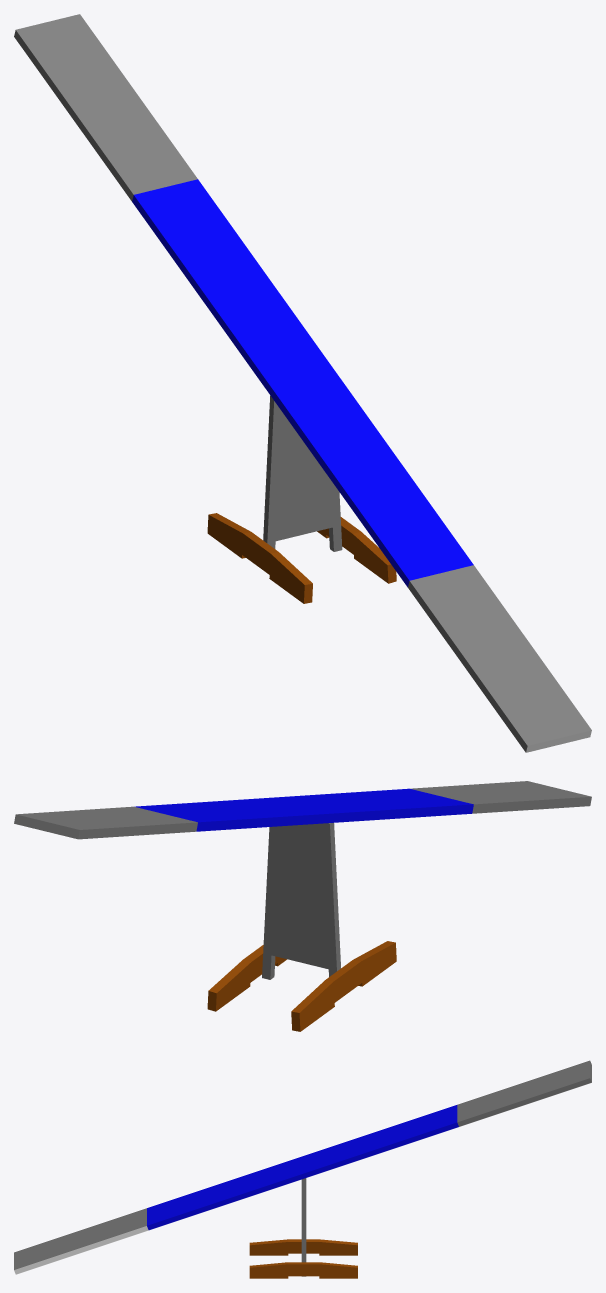
The model's file is Contact-3.gltf.
The picture shows the model from 3 angles, top to bottom: view 1: azimuth 30°, elevation 25°; view 2: azimuth 150°, elevation 25°; view 3: azimuth 270°, elevation 25°; orthographic projection. The views are drawn at different scales.
Parts seen in each view (by area): view 1: plank, upright (×2), foot (×2); view 2: plank, upright (×2), foot (×2); view 3: plank, foot (×2), upright.
Part boxes in pixels (x1,y1,x2,y2): plank: [14, 14, 591, 752]; upright (×2): [263, 395, 342, 551]; foot (×2): [207, 513, 396, 603]; plank: [14, 781, 591, 839]; upright (×2): [262, 823, 340, 979]; foot (×2): [207, 941, 396, 1031]; plank: [14, 1060, 591, 1274]; foot (×2): [249, 1239, 357, 1278]; upright: [301, 1178, 306, 1276].
Size of the model in its own units: 0.3899 by 1.4 by 3.73.
